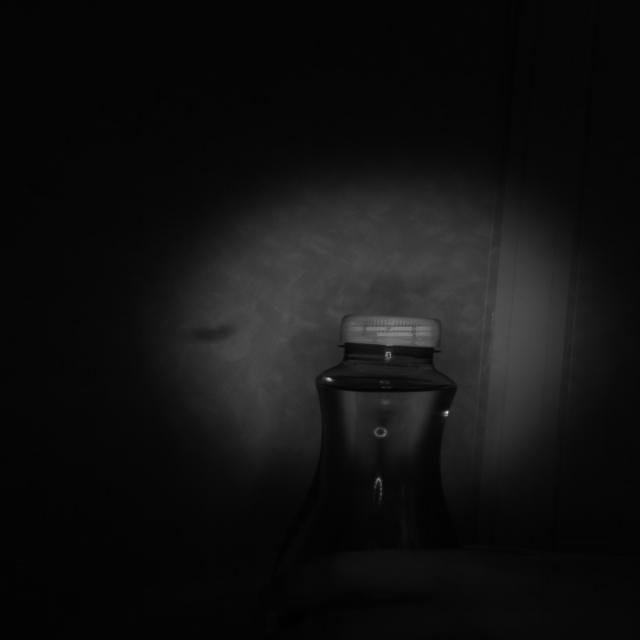Good: (339, 316, 440, 348)
